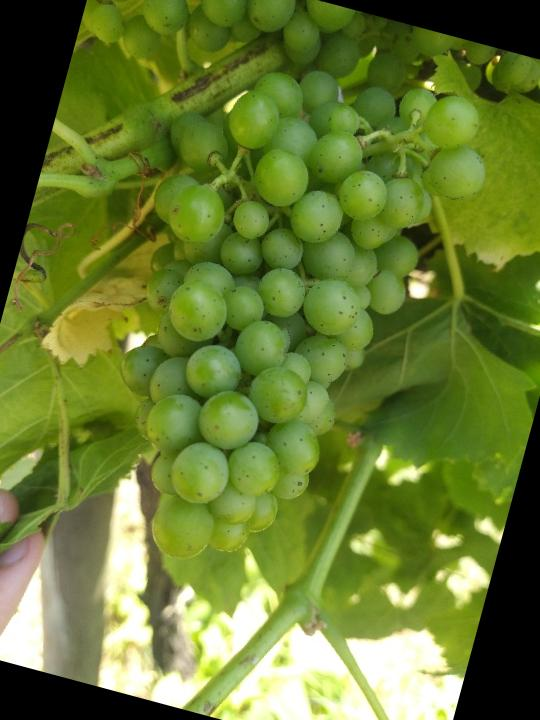grape: (61, 23, 509, 614)
